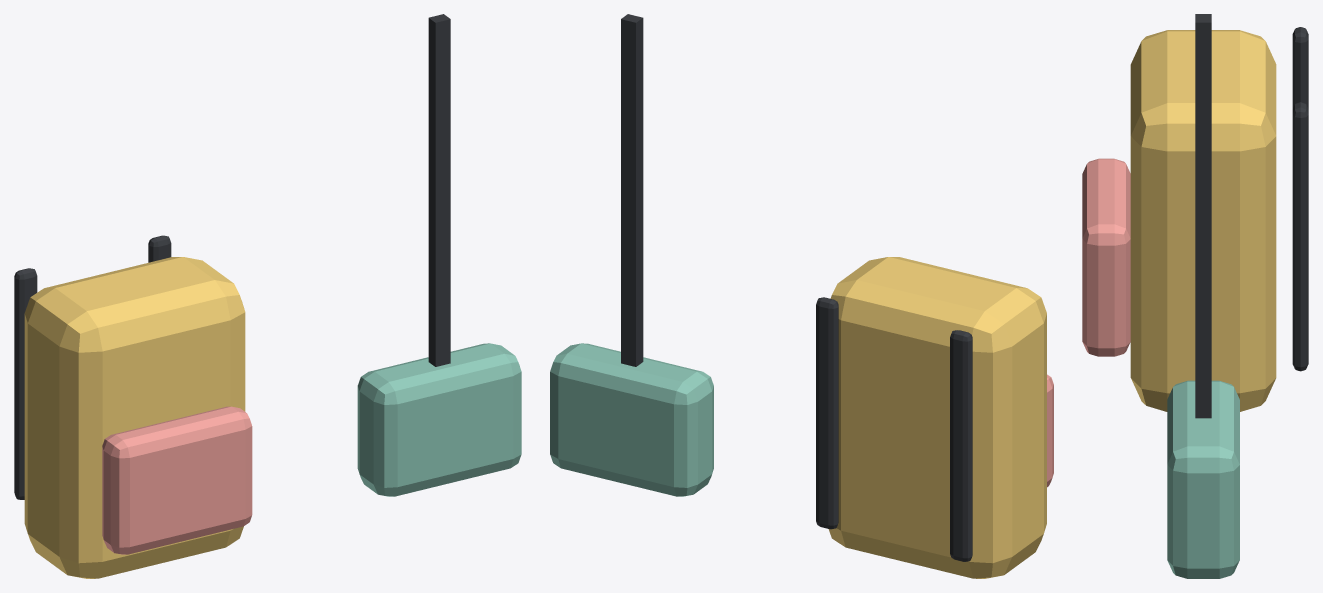
File: Bags_blockout.glb
3 renders of one model, left to right at view 1: azimuth 30°, elevation 25°; view 2: azimuth 150°, elevation 25°; view 3: azimuth 270°, elevation 25°, orthographic. The views are drawn at different scales.
Visible parts, largest first — view 1: PRP02_Bags_Backpack_L0, PRP02_Bags_Crossbag_L0, PRP02_Bags_Pocket_L0, PRP02_Bags_CrossStrap_L0, PRP02_Bags_Strap0_L0; view 2: PRP02_Bags_Backpack_L0, PRP02_Bags_Crossbag_L0, PRP02_Bags_CrossStrap_L0, PRP02_Bags_Strap1_L0, PRP02_Bags_Strap0_L0, PRP02_Bags_Pocket_L0; view 3: PRP02_Bags_Backpack_L0, PRP02_Bags_Crossbag_L0, PRP02_Bags_Pocket_L0, PRP02_Bags_CrossStrap_L0, PRP02_Bags_Strap1_L0, PRP02_Bags_Strap0_L0.
Part boxes in pixels (left/top/right/bottom): PRP02_Bags_Backpack_L0: left=24, top=257, right=245, bottom=578; PRP02_Bags_Crossbag_L0: left=357, top=343, right=521, bottom=496; PRP02_Bags_Pocket_L0: left=102, top=406, right=252, bottom=554; PRP02_Bags_CrossStrap_L0: left=428, top=14, right=450, bottom=366; PRP02_Bags_Strap0_L0: left=14, top=268, right=37, bottom=499; PRP02_Bags_Backpack_L0: left=828, top=257, right=1046, bottom=578; PRP02_Bags_Crossbag_L0: left=550, top=343, right=713, bottom=496; PRP02_Bags_CrossStrap_L0: left=621, top=14, right=643, bottom=366; PRP02_Bags_Strap1_L0: left=816, top=297, right=838, bottom=529; PRP02_Bags_Strap0_L0: left=950, top=330, right=972, bottom=561; PRP02_Bags_Pocket_L0: left=1047, top=374, right=1053, bottom=487; PRP02_Bags_Backpack_L0: left=1130, top=30, right=1276, bottom=411; PRP02_Bags_Crossbag_L0: left=1167, top=380, right=1239, bottom=578; PRP02_Bags_Pocket_L0: left=1082, top=158, right=1130, bottom=356; PRP02_Bags_CrossStrap_L0: left=1195, top=14, right=1211, bottom=418; PRP02_Bags_Strap1_L0: left=1292, top=102, right=1308, bottom=371; PRP02_Bags_Strap0_L0: left=1292, top=27, right=1308, bottom=108.
Bounding box in the file's own units: 0.77 × 0.72 × 0.28.
